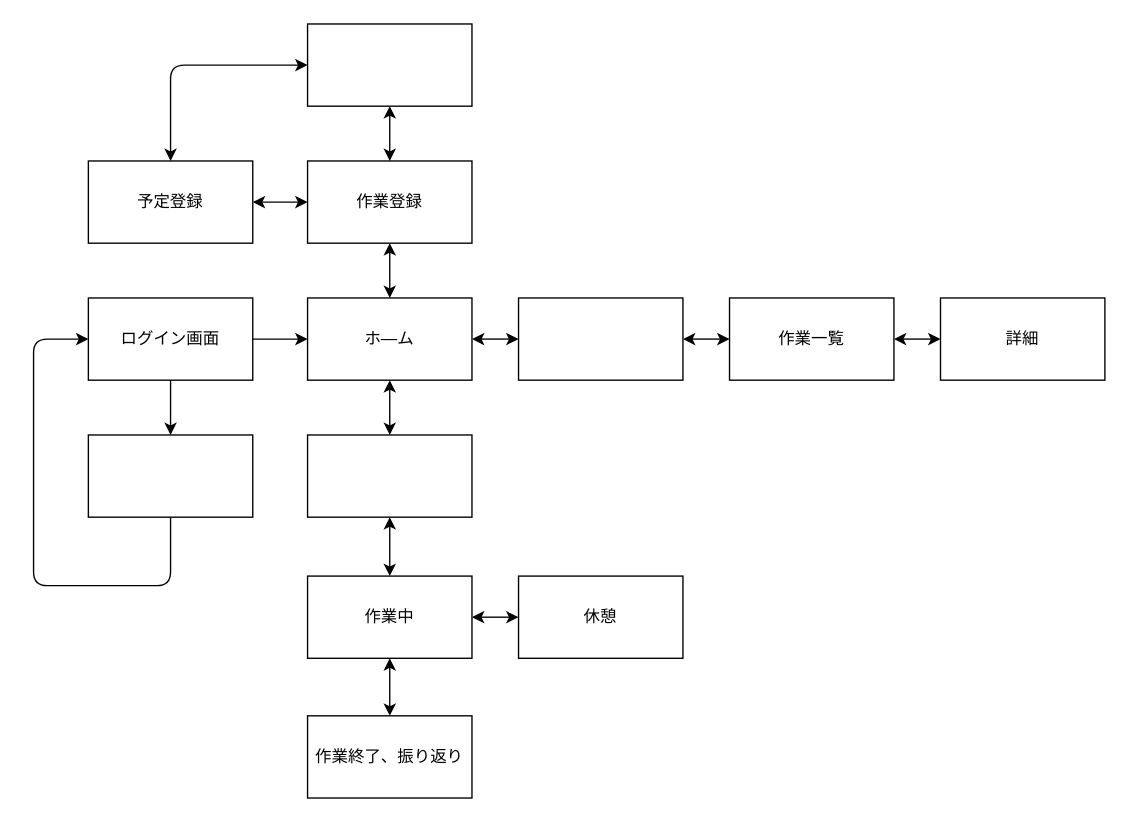
Some shapes in this 1129 by 822 pixel diagram are drawn without their labels. The centre of each missing label's shape, as x and y in pixels:
アカウント登録: point (170, 475)
作業管理: point (600, 338)
作業開始: point (389, 475)
目標登録: point (389, 64)
